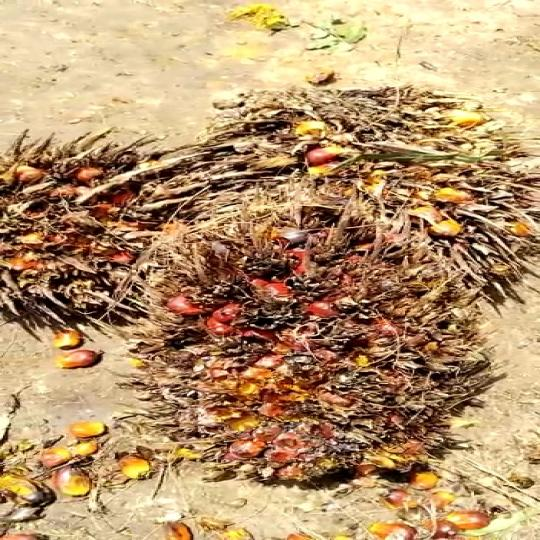terlalu masak: (113, 210, 495, 493)
